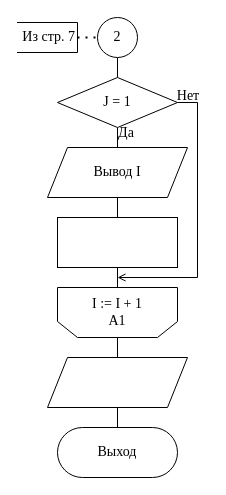
The diagram is 226 pixels wide and 495 high, and some of its shapes have lost their labels. The centre of each missing label's shape, as x and y in pixels:
"K := K + 1" goes at point (117, 242).
"Вывод K" goes at point (117, 382).
